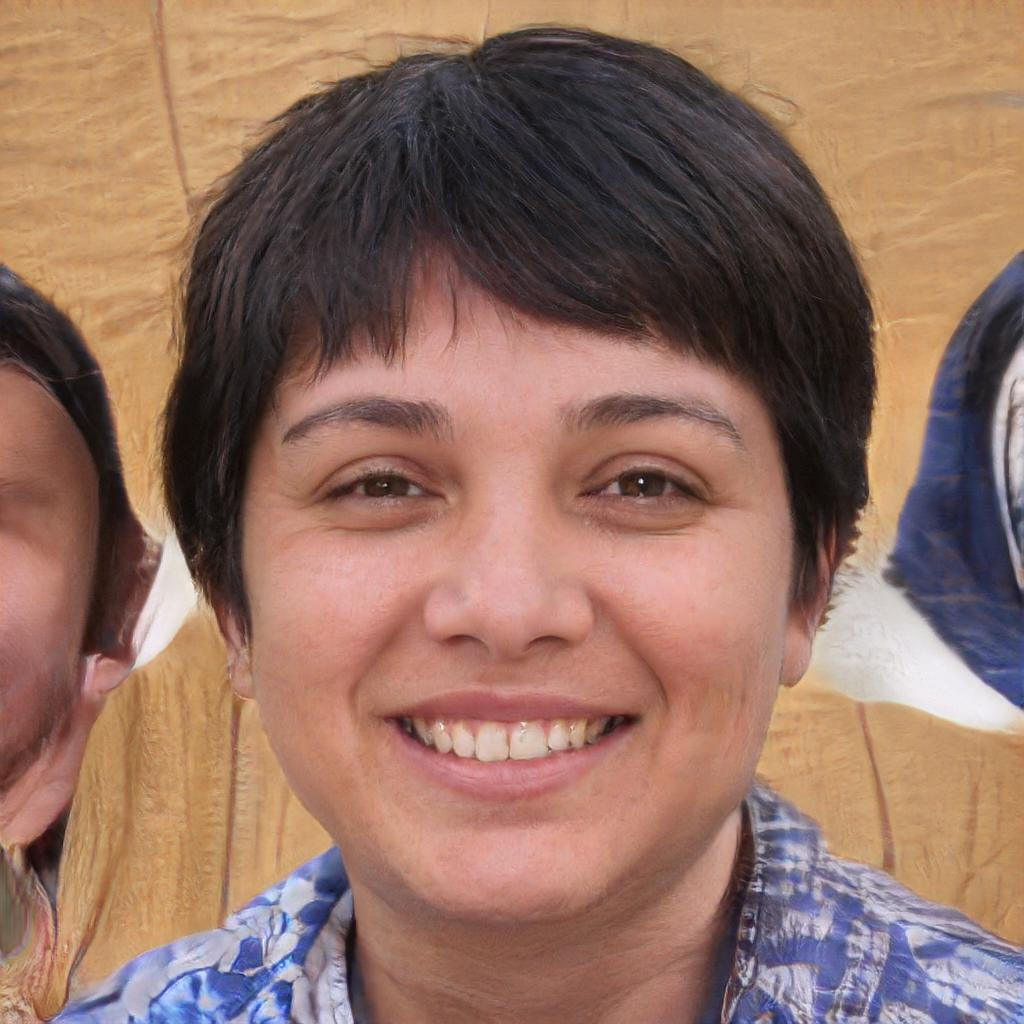face: (242, 257, 793, 925)
